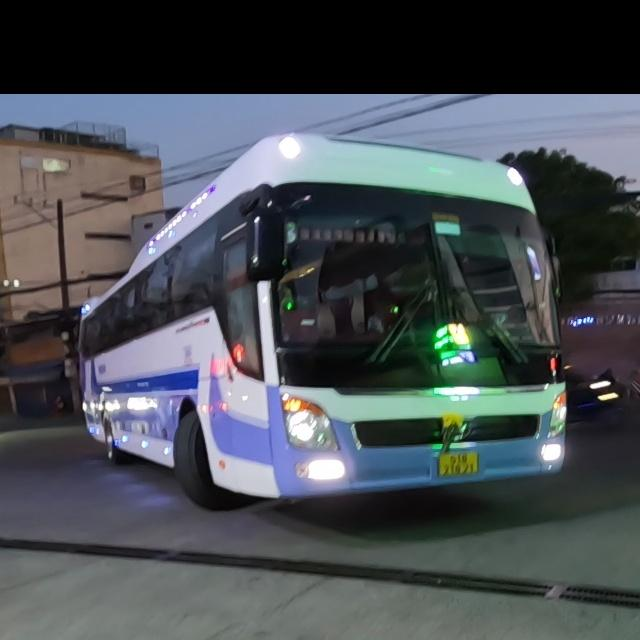license-plate: (437, 450, 480, 477)
